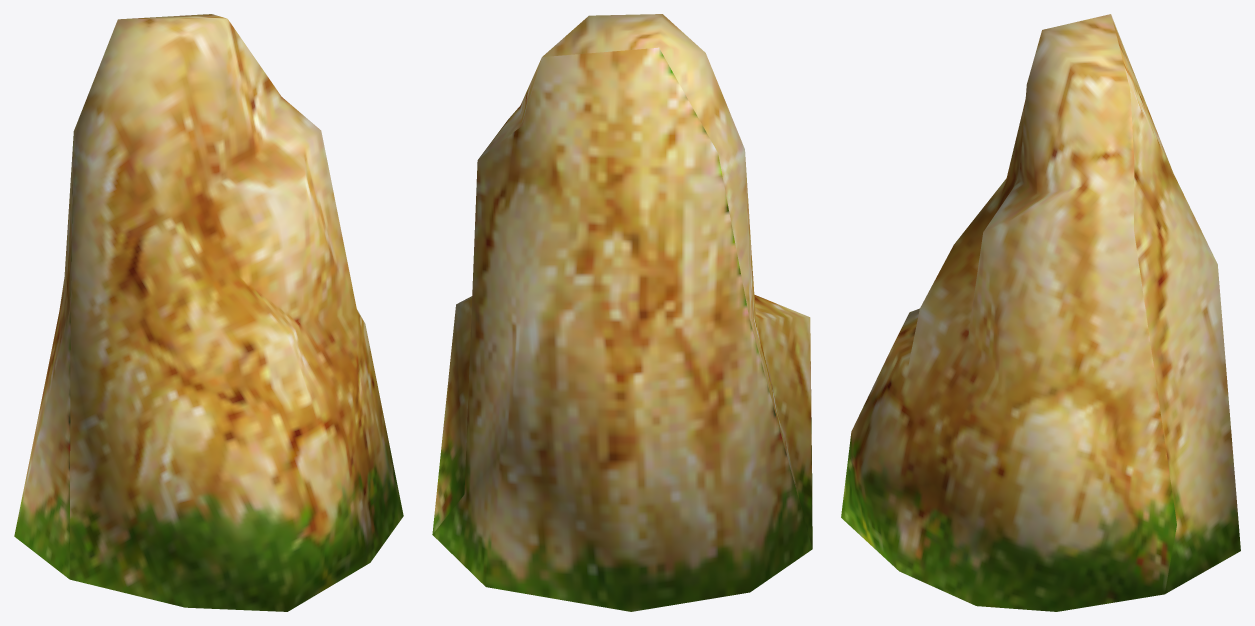
Rendered from F01_rock_01.FBX.
3 renders of one model, left to right at view 1: azimuth 30°, elevation 25°; view 2: azimuth 150°, elevation 25°; view 3: azimuth 270°, elevation 25°, orthographic. The views are drawn at different scales.
Parts seen in each view (by area): view 1: F01_rock_01; view 2: F01_rock_01; view 3: F01_rock_01.
Part boxes in pixels (x1,y1,x2,y2): F01_rock_01: [14, 14, 403, 611]; F01_rock_01: [432, 14, 812, 611]; F01_rock_01: [841, 14, 1240, 611].
Size of the model in its own units: 421 by 613 by 455.
